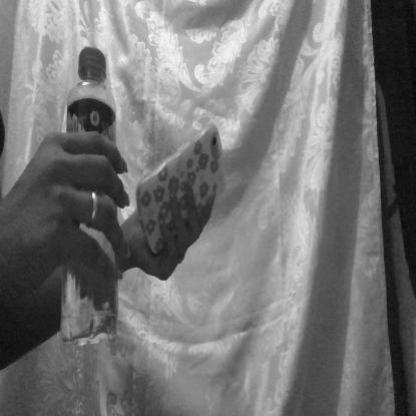Plastic Bottle: (54, 23, 138, 390)
